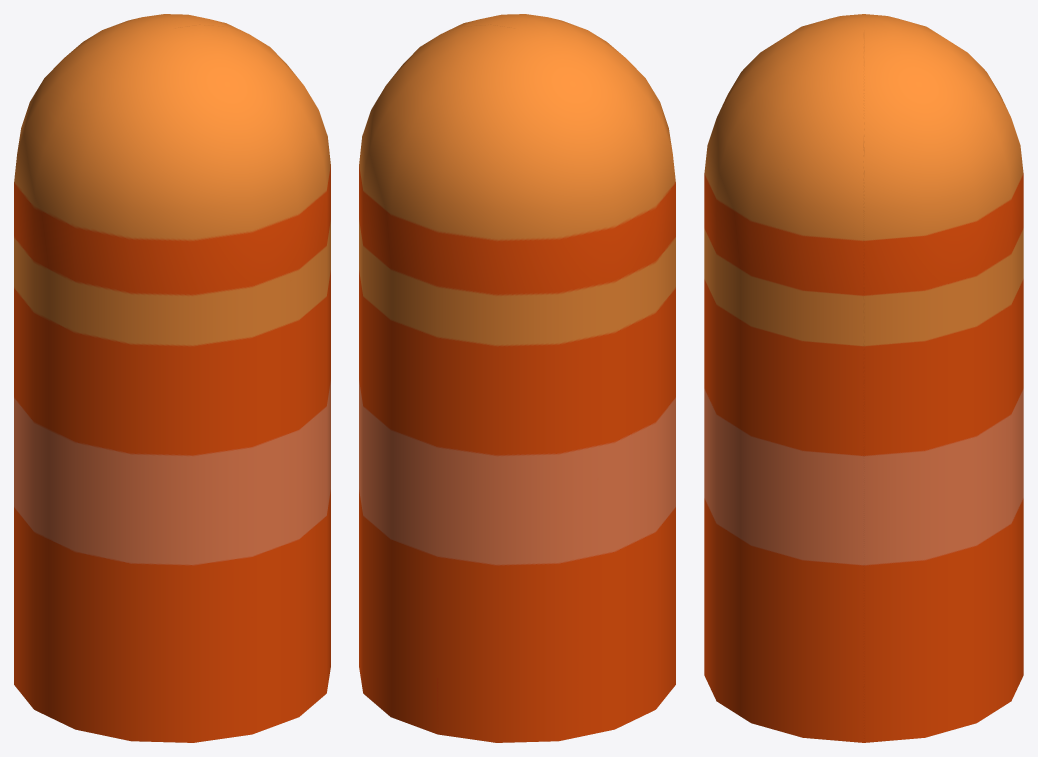
File: Montes.fbx
3 views of the same model, side by side, from view 1: azimuth 30°, elevation 25°; view 2: azimuth 150°, elevation 25°; view 3: azimuth 270°, elevation 25° (orthographic).
Visible parts, largest first — view 1: MonteFUndo; view 2: MonteFUndo; view 3: MonteFUndo.
Part boxes in pixels (box(x1,y1,x2,y2)): MonteFUndo: box(14, 14, 330, 742); MonteFUndo: box(359, 14, 675, 742); MonteFUndo: box(704, 14, 1023, 742).
Bounding box in the file's own units: 200 × 447 × 200.
